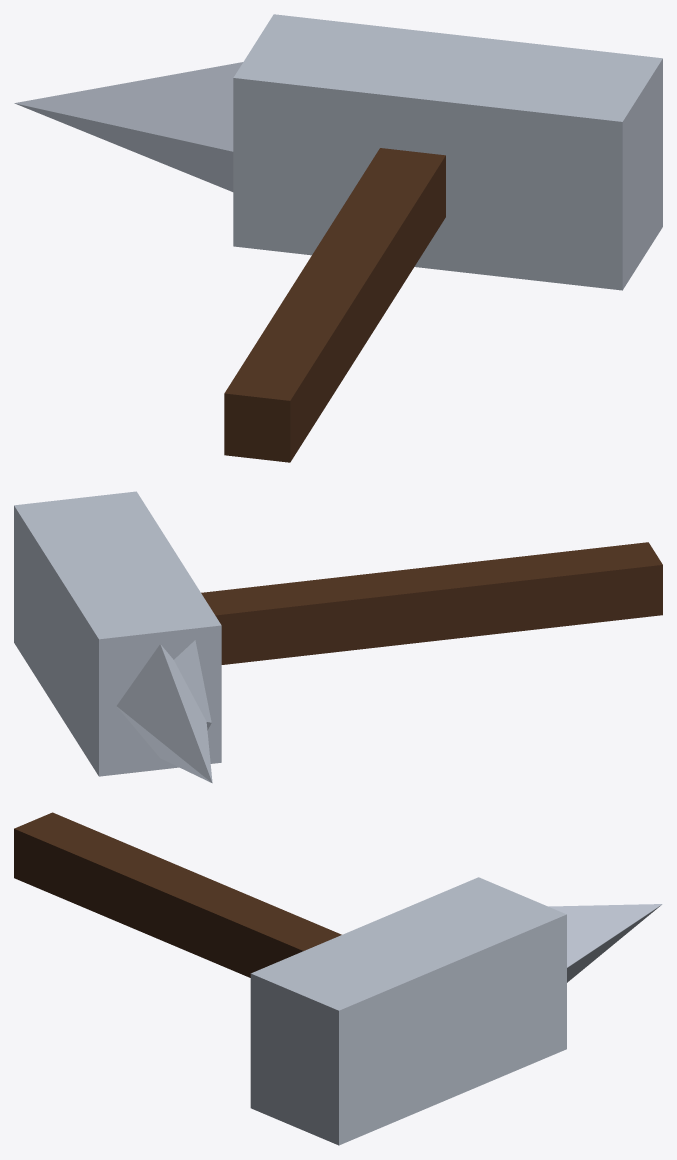
The model's file is warhammer.glb.
The picture shows the model from 3 angles, top to bottom: view 1: azimuth 30°, elevation 25°; view 2: azimuth 150°, elevation 25°; view 3: azimuth 270°, elevation 25°; orthographic projection. The views are drawn at different scales.
Visible parts, largest first — view 1: warhammer; view 2: warhammer; view 3: warhammer.
Boxes of the visible parts, x1,y1,x2,y2 form: warhammer: [14, 14, 662, 462]; warhammer: [14, 491, 662, 783]; warhammer: [14, 812, 662, 1145].
Bounding box in the file's own units: 0.9203 × 0.24 × 1.05.
